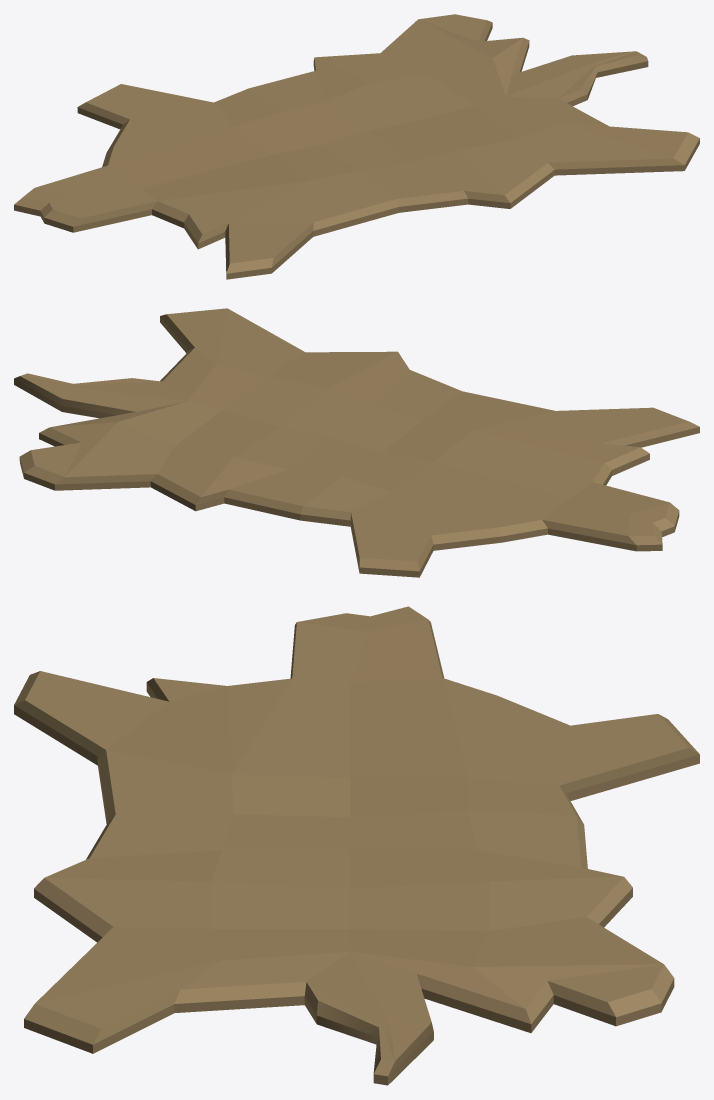
Rendered from Fur.fbx.
3 renders of one model, top to bottom at view 1: azimuth 30°, elevation 25°; view 2: azimuth 150°, elevation 25°; view 3: azimuth 270°, elevation 25°, orthographic. The views are drawn at different scales.
Visible parts, largest first — view 1: pPlane434; view 2: pPlane434; view 3: pPlane434.
Part boxes in pixels (bbox=[...]): pPlane434: bbox=[14, 14, 699, 279]; pPlane434: bbox=[14, 308, 699, 577]; pPlane434: bbox=[14, 606, 699, 1085].
Bounding box in the file's own units: 325 × 8.62 × 201.
